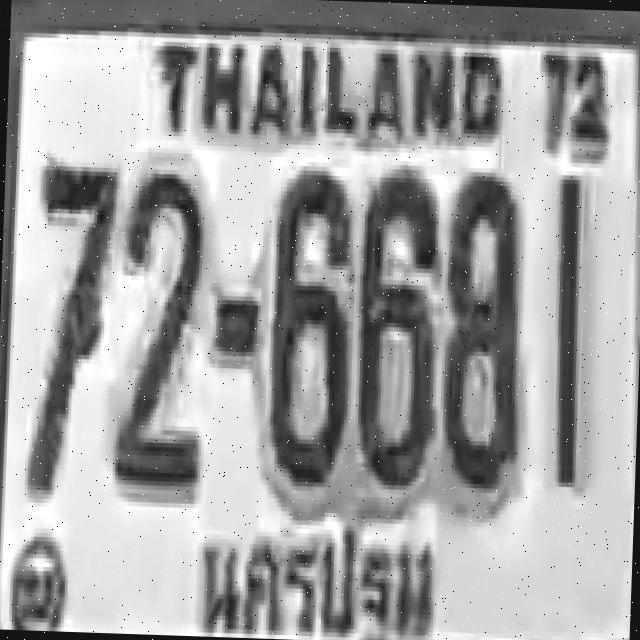1: (544, 172, 588, 480)
2: (112, 166, 208, 467), (110, 211, 208, 495)
6: (265, 165, 353, 487), (353, 168, 440, 486)
7: (23, 158, 118, 498), (29, 161, 119, 479)
8: (438, 166, 529, 494)
NakhonPathom: (185, 518, 442, 640)
